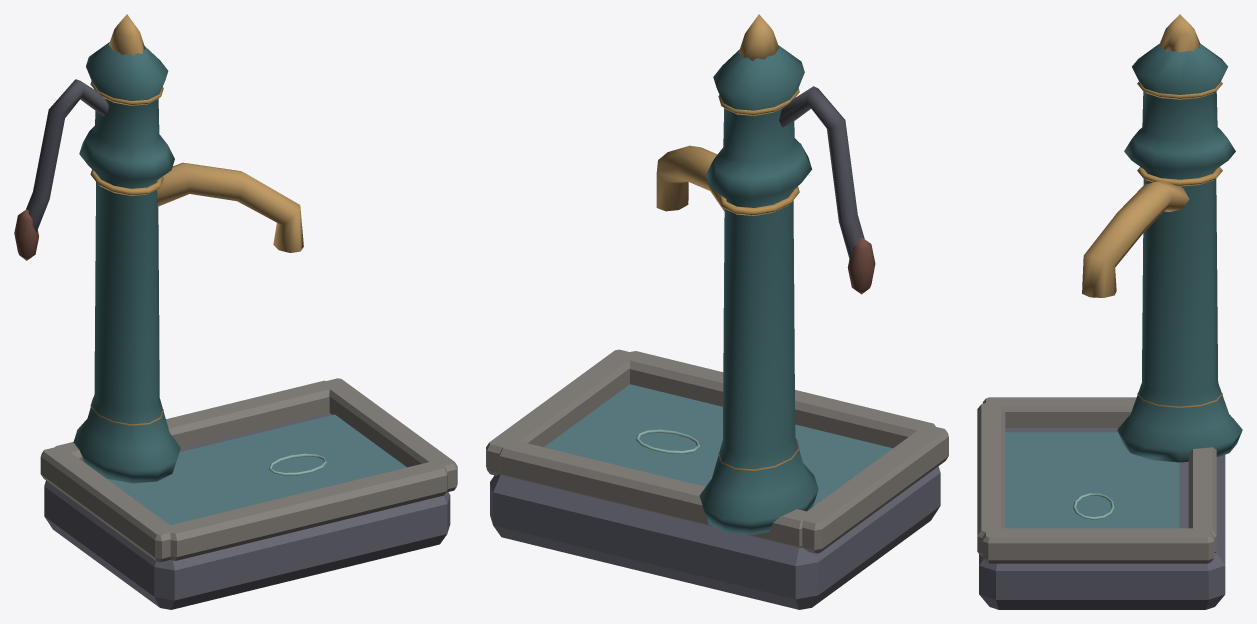
File: town_pump.glb
The picture shows the model from 3 angles, left to right: view 1: azimuth 30°, elevation 25°; view 2: azimuth 150°, elevation 25°; view 3: azimuth 270°, elevation 25°; orthographic projection. The views are drawn at different scales.
Parts seen in each view (by area): view 1: town_pump; view 2: town_pump; view 3: town_pump.
Boxes of the visible parts, left/top/right/bottom form: town_pump: left=14, top=14, right=457, bottom=609; town_pump: left=486, top=14, right=948, bottom=609; town_pump: left=977, top=14, right=1242, bottom=609.
Bounding box in the file's own units: 0.95 × 1.37 × 0.67.
